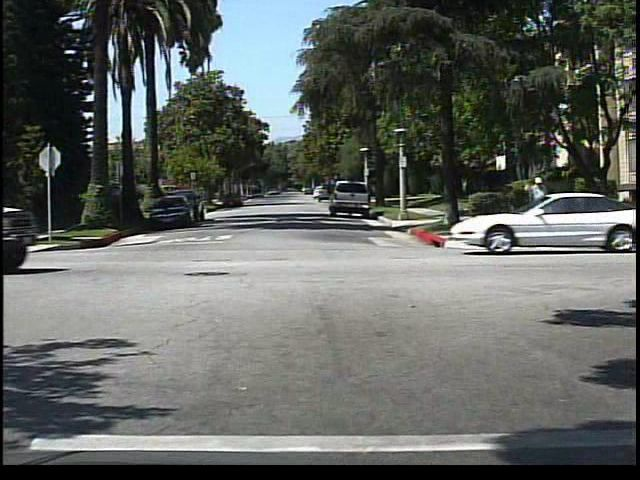person: (525, 173, 553, 212)
